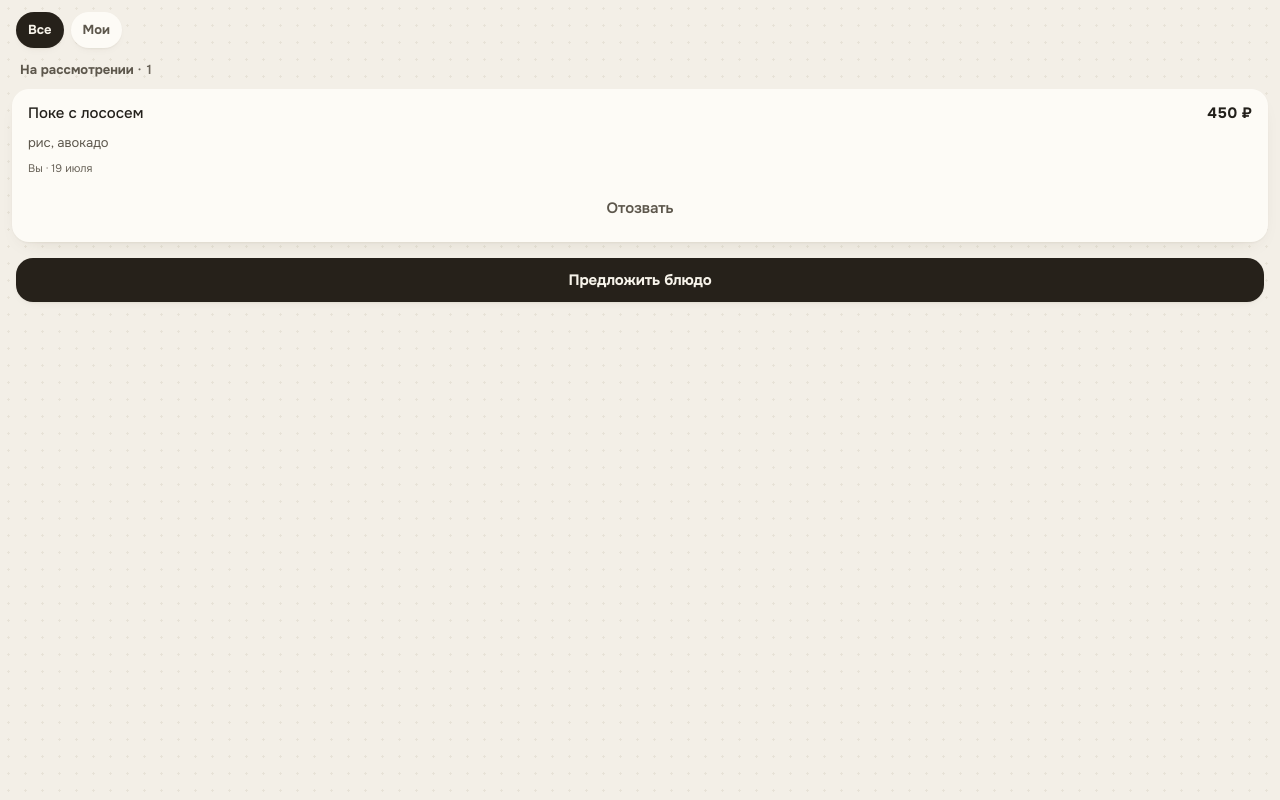
Test case: SuggestionsPage — участник › отказ сервера произносится вслух и остаётся у строки
The width and height of the screenshot is (1280, 800).
Click the button "Отозвать" at (640, 208), box 28,186 -> 1252,230
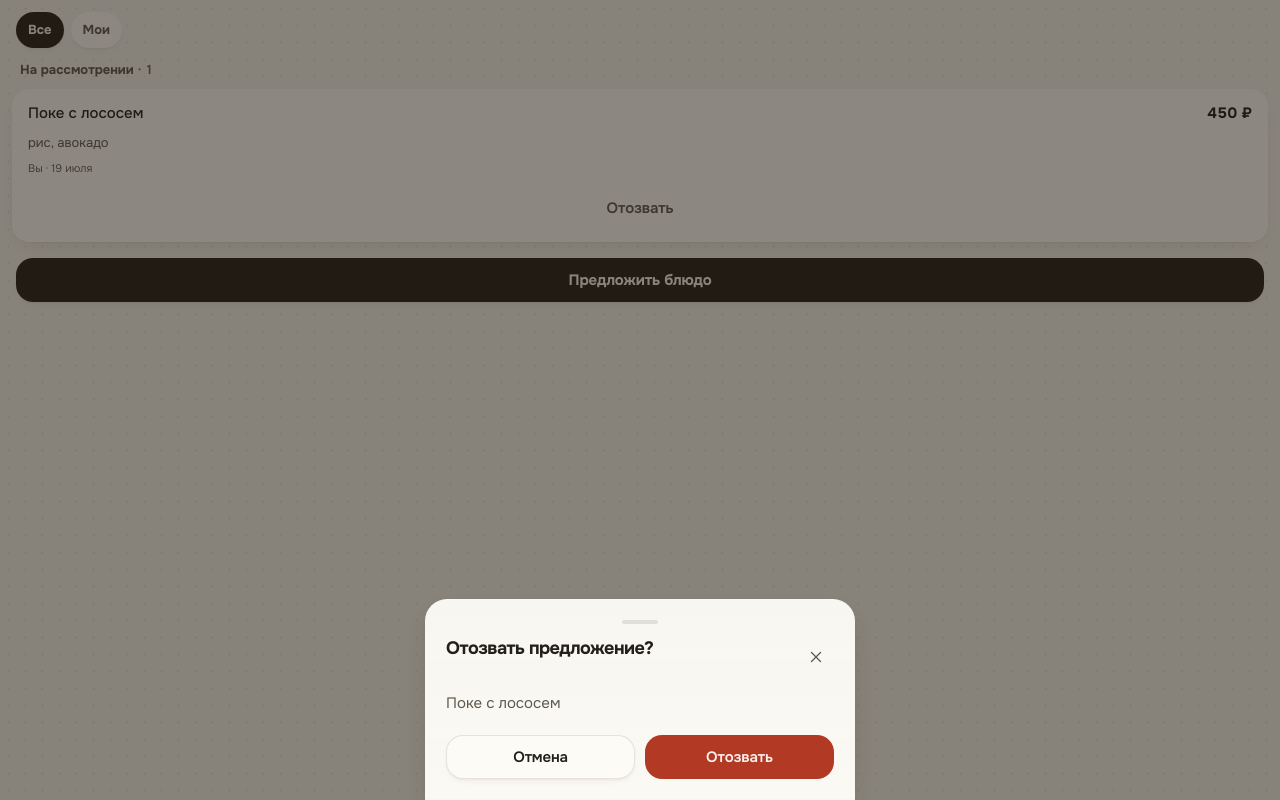
Click the button "Отозвать" at (740, 757), box 645,735 -> 834,779
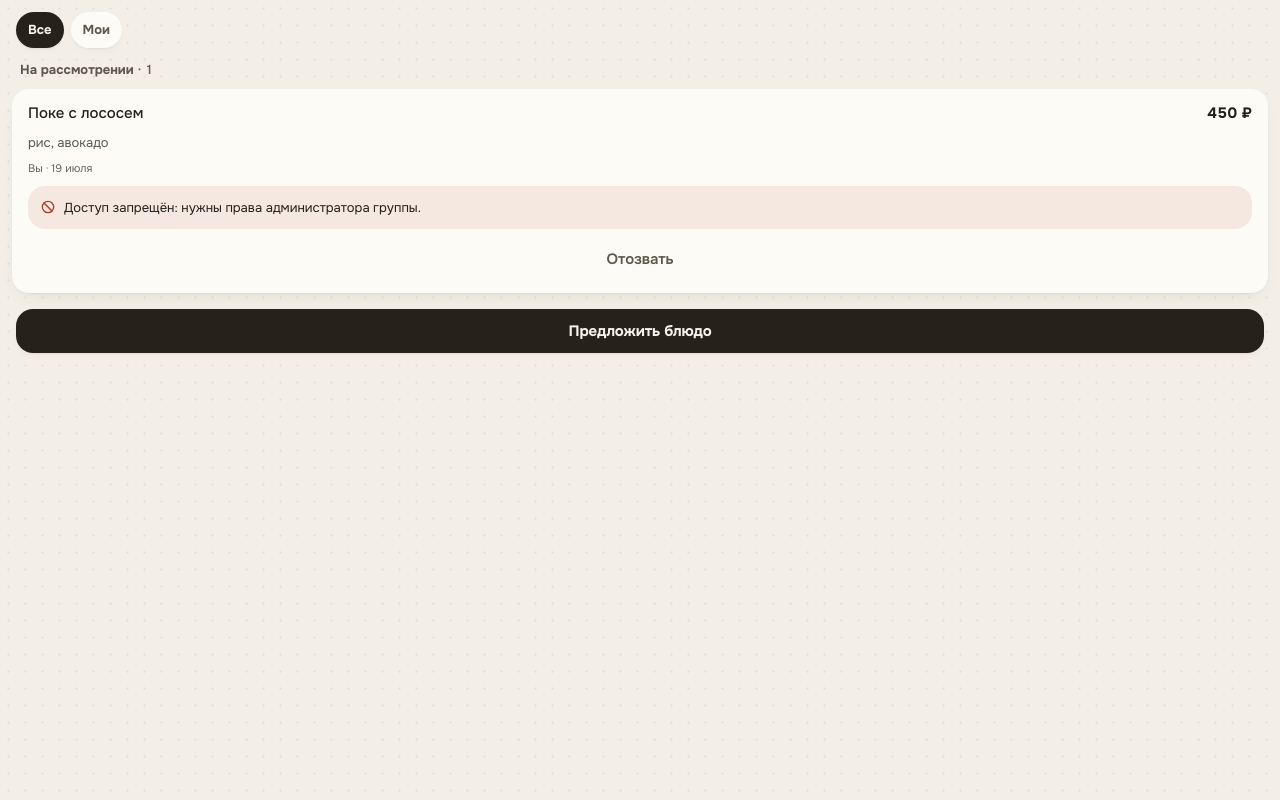
Expected: the text "Поке с лососем" is shown, 28,101 -> 143,125
Expected: the message reads "Доступ запрещён: нужны права администратора группы.", 64,199 -> 421,216
Expected: the dialog is gone
